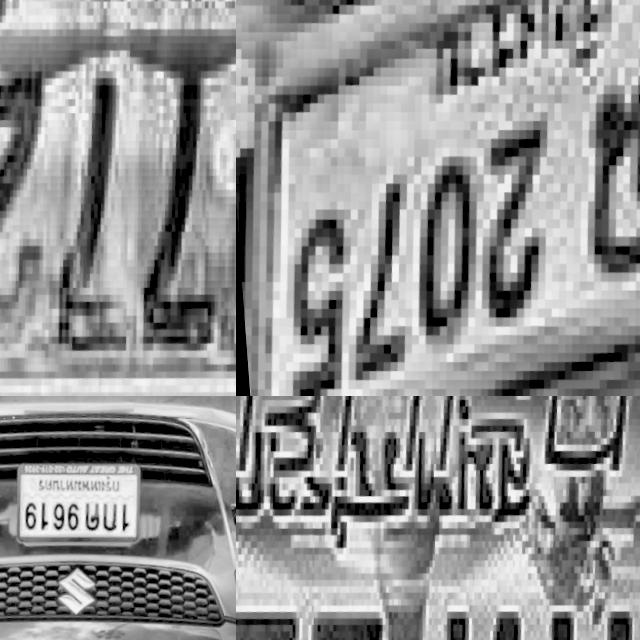license-plate: (236, 0, 640, 396), (236, 396, 640, 640), (0, 0, 236, 396), (6, 458, 141, 561)
